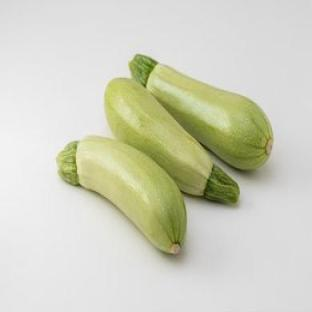Zucchini: (105, 78, 239, 202), (130, 56, 272, 169), (57, 137, 186, 254)
